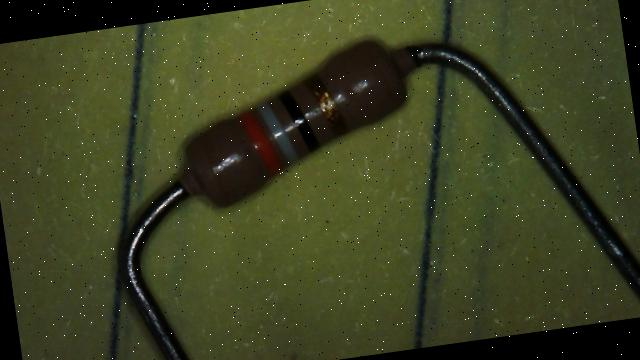black: (278, 87, 320, 154)
gold: (304, 72, 344, 133)
orange: (238, 108, 282, 180)
resistor: (166, 23, 430, 229)
white: (256, 98, 298, 165)
